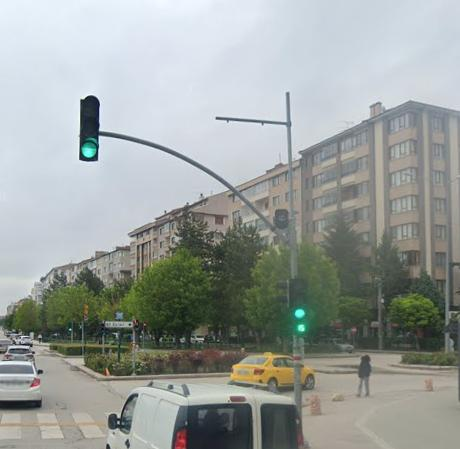greenlight: (79, 97, 103, 162)
